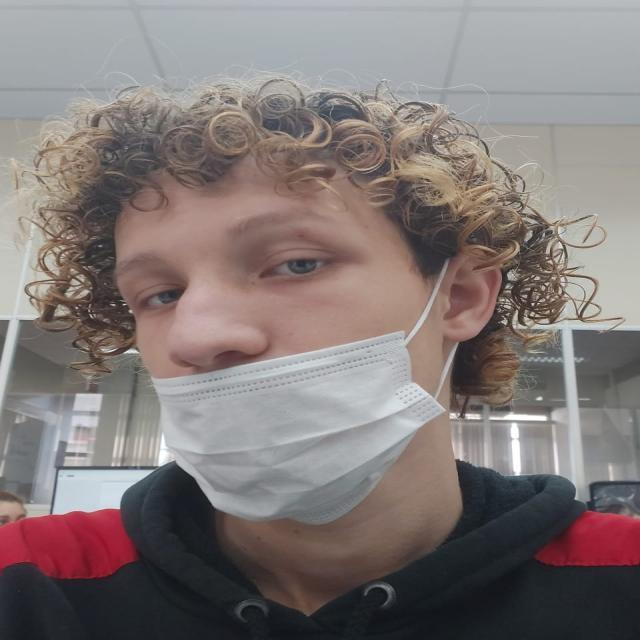hairnet: (111, 174, 434, 480)
